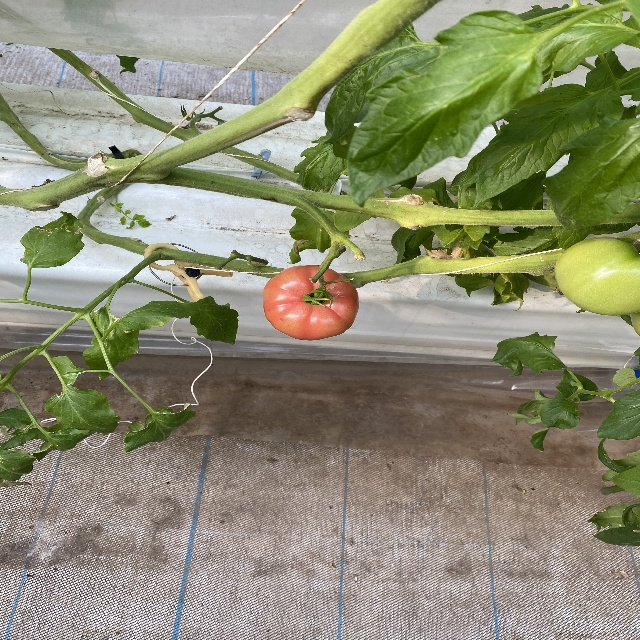b_fully_ripened: (263, 265, 359, 341)
b_green: (555, 237, 640, 316), (631, 311, 640, 336)
